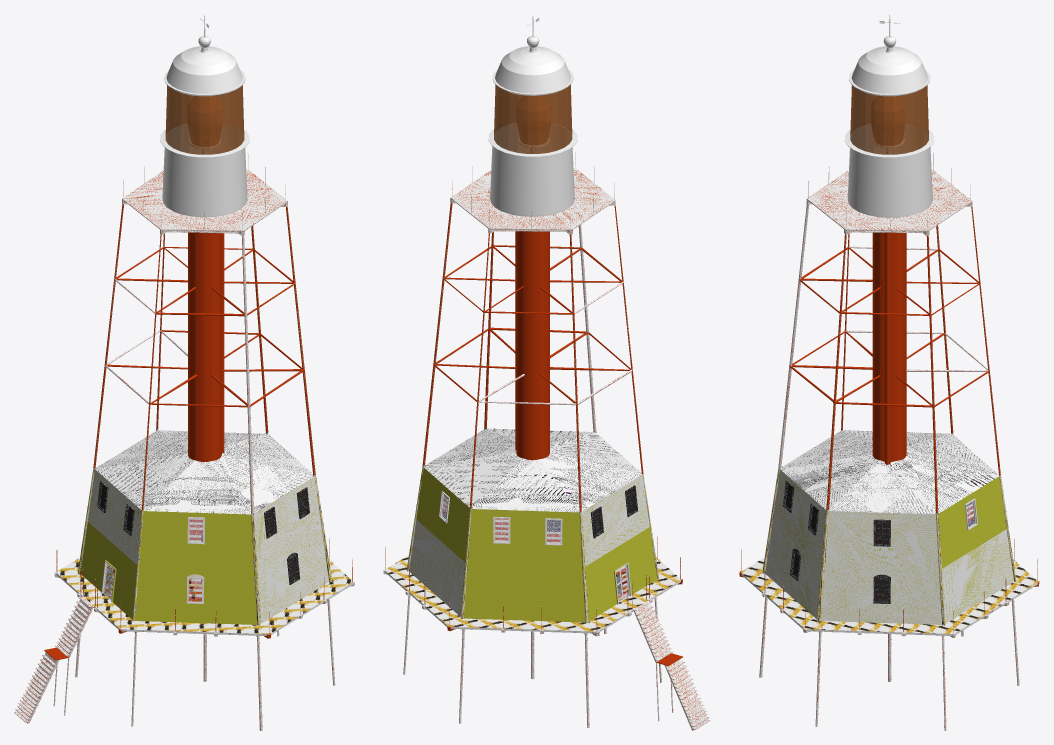
3 renders of one model, left to right at view 1: azimuth 30°, elevation 25°; view 2: azimuth 150°, elevation 25°; view 3: azimuth 270°, elevation 25°, orthographic.
Parts seen in each view (by area): view 1: mesh1_mesh1-geometry, mesh63_mesh63-geometry, mesh66_mesh66-geometry, mesh64_mesh64-geometry; view 2: mesh1_mesh1-geometry, mesh63_mesh63-geometry, mesh66_mesh66-geometry; view 3: mesh1_mesh1-geometry, mesh63_mesh63-geometry, mesh64_mesh64-geometry, mesh66_mesh66-geometry.
Part boxes in pixels (box(x1,y1,x2,y2)): mesh1_mesh1-geometry: box(14, 204, 354, 730); mesh63_mesh63-geometry: box(122, 15, 287, 461); mesh66_mesh66-geometry: box(242, 235, 254, 513); mesh64_mesh64-geometry: box(222, 233, 224, 453); mesh1_mesh1-geometry: box(383, 203, 710, 730); mesh63_mesh63-geometry: box(450, 15, 615, 460); mesh66_mesh66-geometry: box(578, 224, 596, 431); mesh1_mesh1-geometry: box(739, 206, 1039, 730); mesh63_mesh63-geometry: box(806, 15, 972, 461); mesh64_mesh64-geometry: box(884, 232, 890, 464); mesh66_mesh66-geometry: box(778, 204, 809, 468).
Size of the model in its own units: 0.3961 by 0.8502 by 0.3468.
